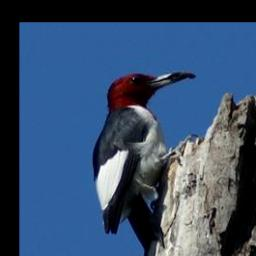Woodpecker: (92, 70, 195, 256)
